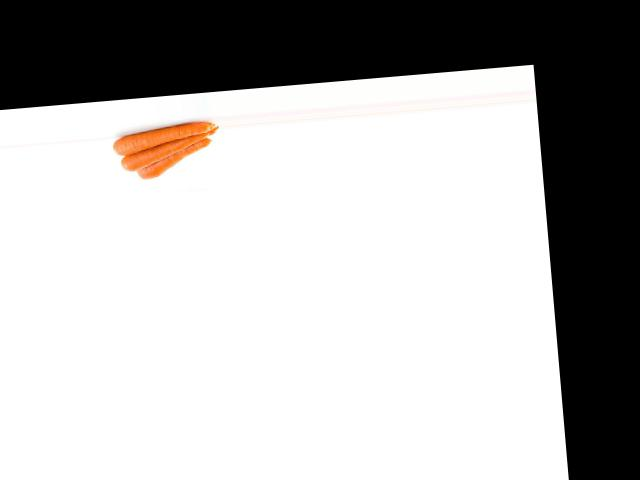carrot: (107, 115, 216, 156)
